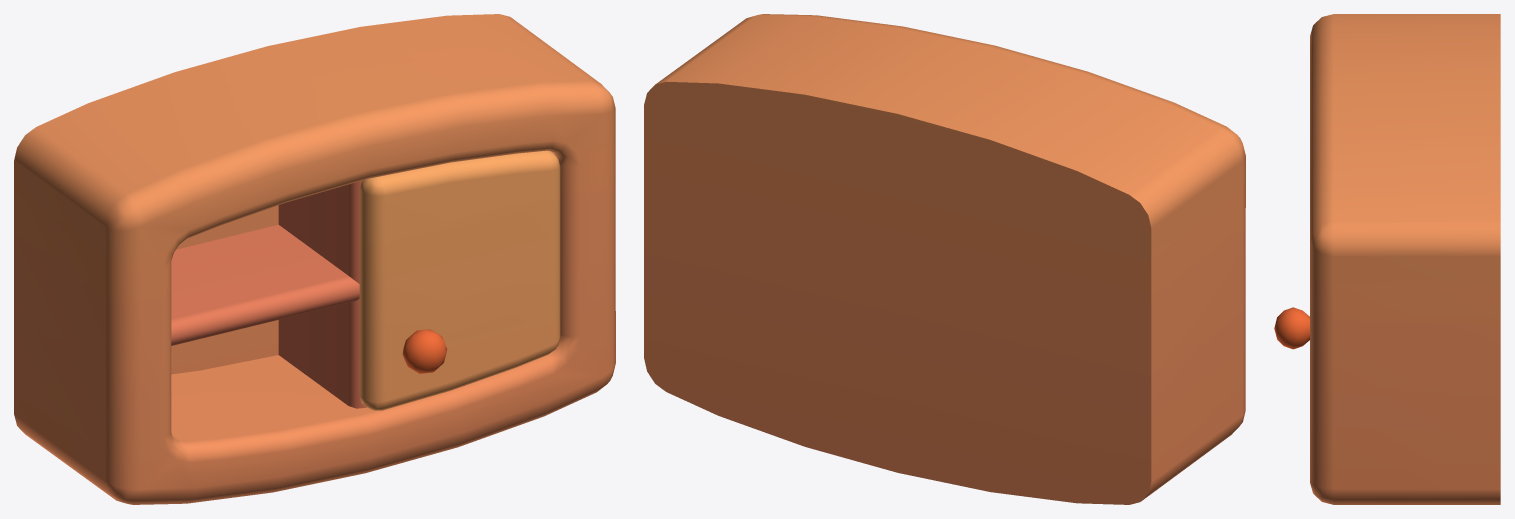
Rendered from kitchen_d_09.glb.
3 renders of one model, left to right at view 1: azimuth 30°, elevation 25°; view 2: azimuth 150°, elevation 25°; view 3: azimuth 270°, elevation 25°, orthographic. The views are drawn at different scales.
Parts seen in each view (by area): view 1: Kitchen_D_09, Kitchen_D_09_Door; view 2: Kitchen_D_09; view 3: Kitchen_D_09, Kitchen_D_09_Door.
Boxes of the visible parts, x1,y1,x2,y2 form: Kitchen_D_09: [14, 14, 615, 504]; Kitchen_D_09_Door: [359, 150, 560, 410]; Kitchen_D_09: [644, 14, 1245, 504]; Kitchen_D_09: [1310, 14, 1500, 504]; Kitchen_D_09_Door: [1274, 307, 1309, 349].
Size of the model in its own units: 0.9 by 0.6085 by 0.3798.
Materials: 1 (1 with a texture image).
